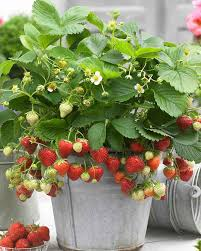Fresa: (83, 162, 105, 186), (88, 143, 111, 165), (37, 145, 59, 168), (7, 219, 27, 242), (124, 155, 146, 175), (21, 134, 41, 156), (66, 160, 85, 183), (56, 138, 76, 159), (33, 224, 54, 243), (104, 153, 121, 176), (174, 113, 193, 132), (176, 165, 194, 185), (162, 166, 178, 181)
